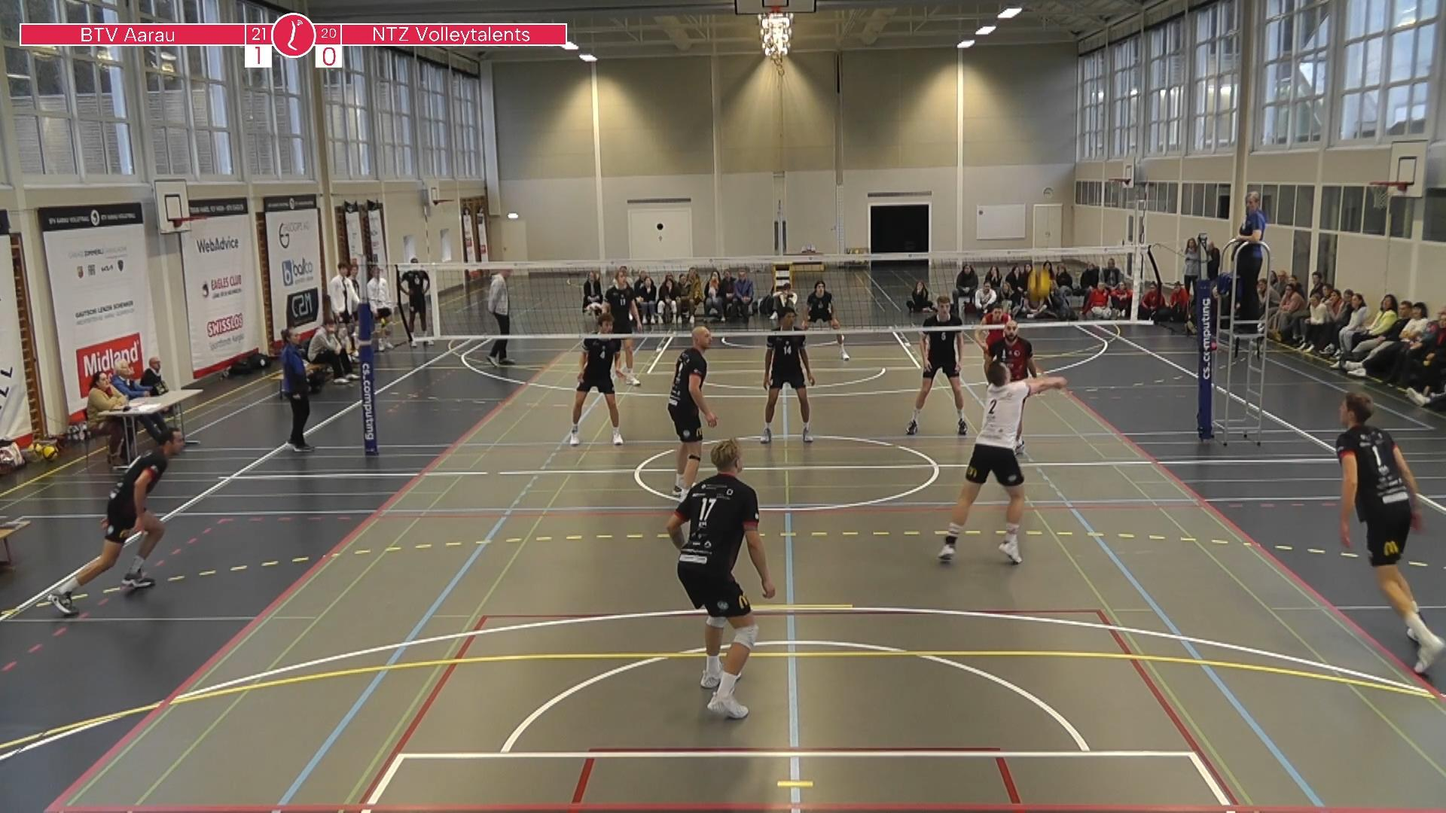difesa: (913, 334, 1084, 567)
